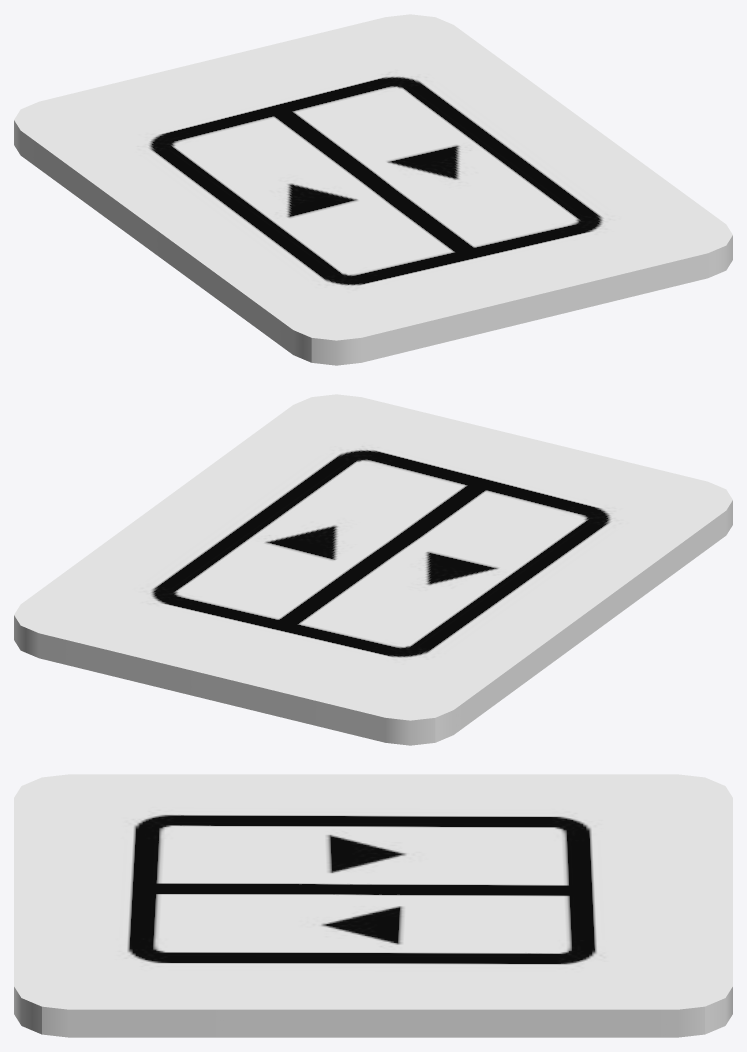
The model's file is card.fbx.
3 views of the same model, one above another, from view 1: azimuth 30°, elevation 25°; view 2: azimuth 150°, elevation 25°; view 3: azimuth 270°, elevation 25° (orthographic). The views are drawn at different scales.
Parts seen in each view (by area): view 1: pCube133; view 2: pCube133; view 3: pCube133.
Boxes of the visible parts, bbox=[...] form: pCube133: bbox=[14, 14, 732, 365]; pCube133: bbox=[14, 394, 732, 745]; pCube133: bbox=[14, 774, 732, 1037].
Size of the model in its own units: 5.76 by 0.3185 by 7.44.
1 material, 1 textured.
